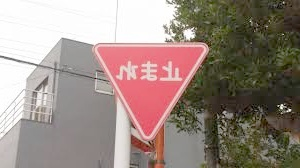Regulatory_sign_triangle: (89, 39, 218, 143)
